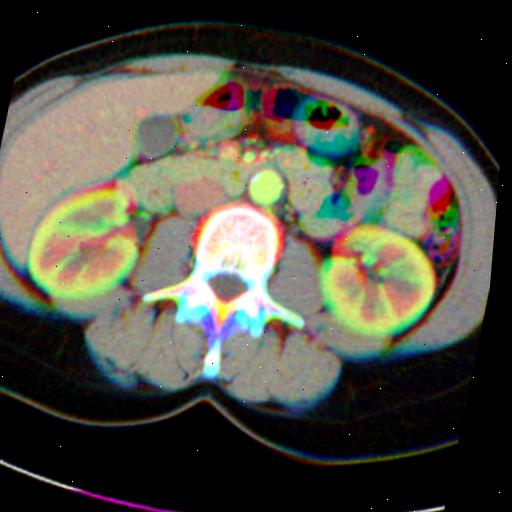Cyst: (138, 112, 181, 158)
